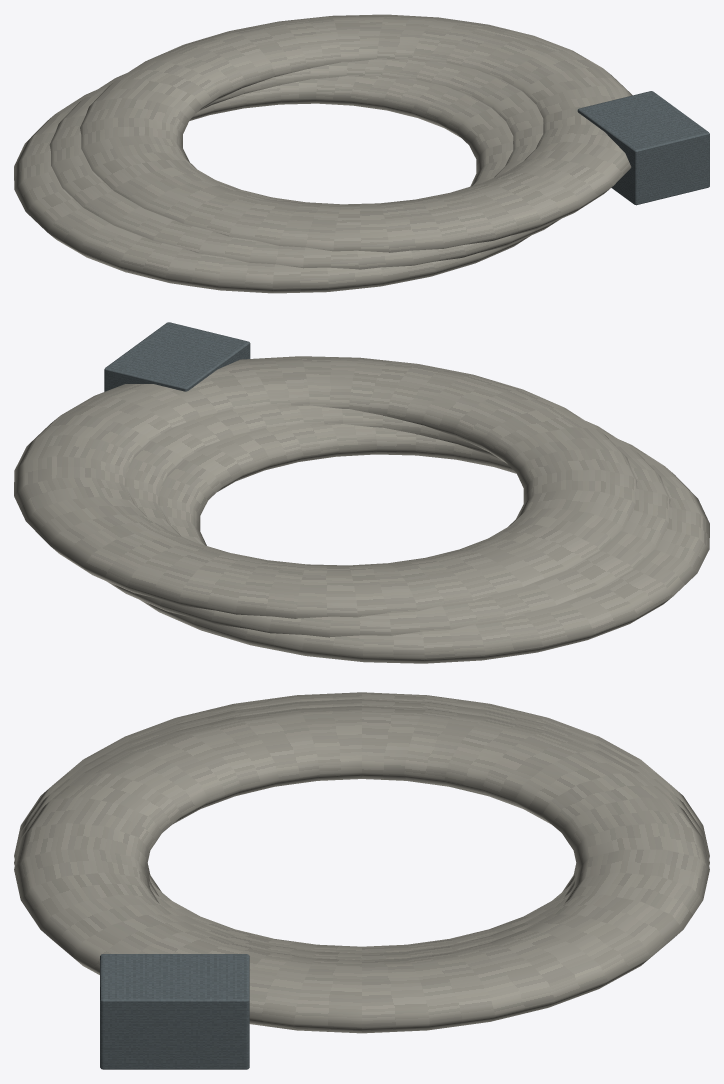
The model's file is drain-hose.glb.
3 views of the same model, one above another, from view 1: azimuth 30°, elevation 25°; view 2: azimuth 150°, elevation 25°; view 3: azimuth 270°, elevation 25° (orthographic). The views are drawn at different scales.
Visible parts, largest first — view 1: loop (×3), plug; view 2: loop (×3), plug; view 3: loop (×3), plug.
Part boxes in pixels (x1,y1,x2,y2): loop (×3): (14, 14, 632, 293); plug: (577, 91, 709, 205); loop (×3): (14, 356, 709, 663); plug: (104, 322, 250, 391); loop (×3): (14, 692, 709, 1033); plug: (100, 954, 249, 1069).
Size of the model in its own units: 0.3226 by 0.0301 by 0.2697.
Materials: 2 (2 with a texture image).
